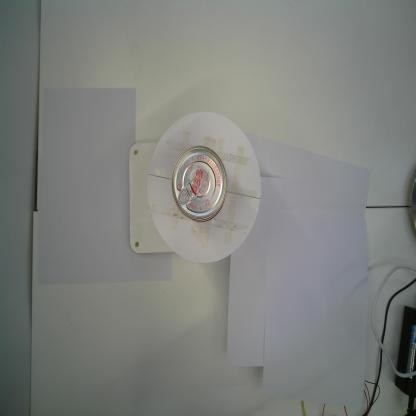Canned Food: (170, 144, 228, 224)
